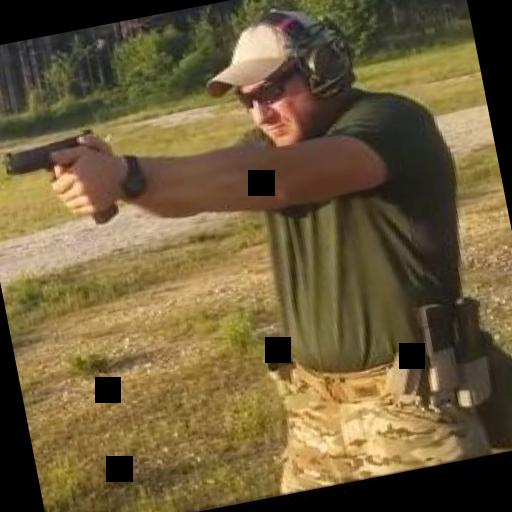Handgun: (0, 121, 122, 236)
